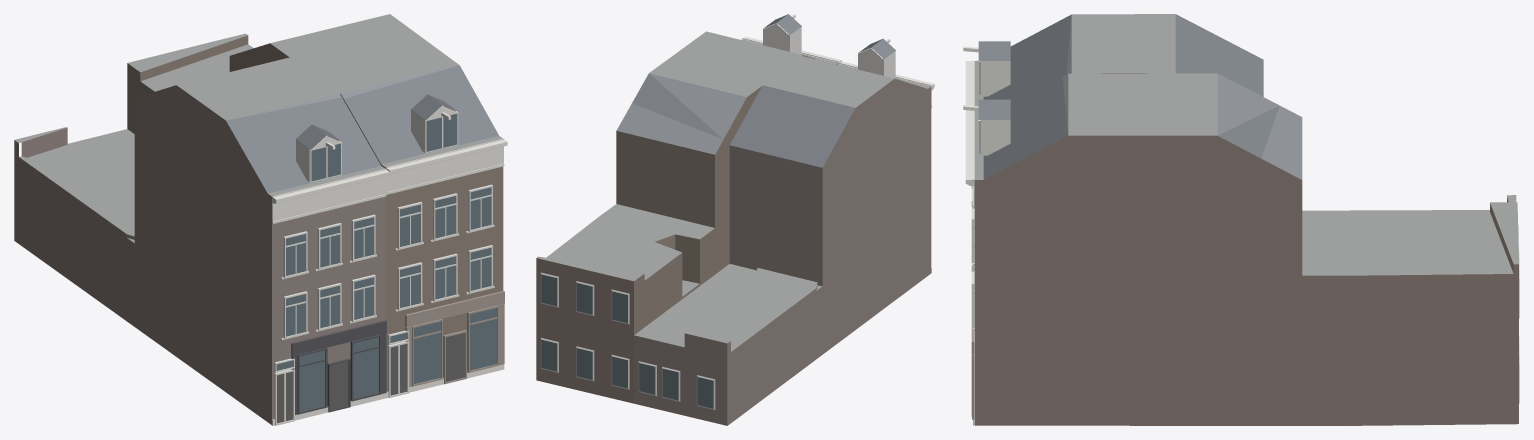
Rendered from chunk-face-bol-24-38-r1.glb.
3 views of the same model, side by side, from view 1: azimuth 30°, elevation 25°; view 2: azimuth 150°, elevation 25°; view 3: azimuth 270°, elevation 25° (orthographic). The views are drawn at different scales.
Visible parts, largest first — view 1: face-bol-24-38-r1; view 2: face-bol-24-38-r1; view 3: face-bol-24-38-r1.
Part boxes in pixels (left/top/right/bottom): face-bol-24-38-r1: left=14, top=14, right=507, bottom=425; face-bol-24-38-r1: left=536, top=14, right=934, bottom=425; face-bol-24-38-r1: left=963, top=14, right=1519, bottom=425.
Bounding box in the file's own units: 12.89 × 14.43 × 24.64.
